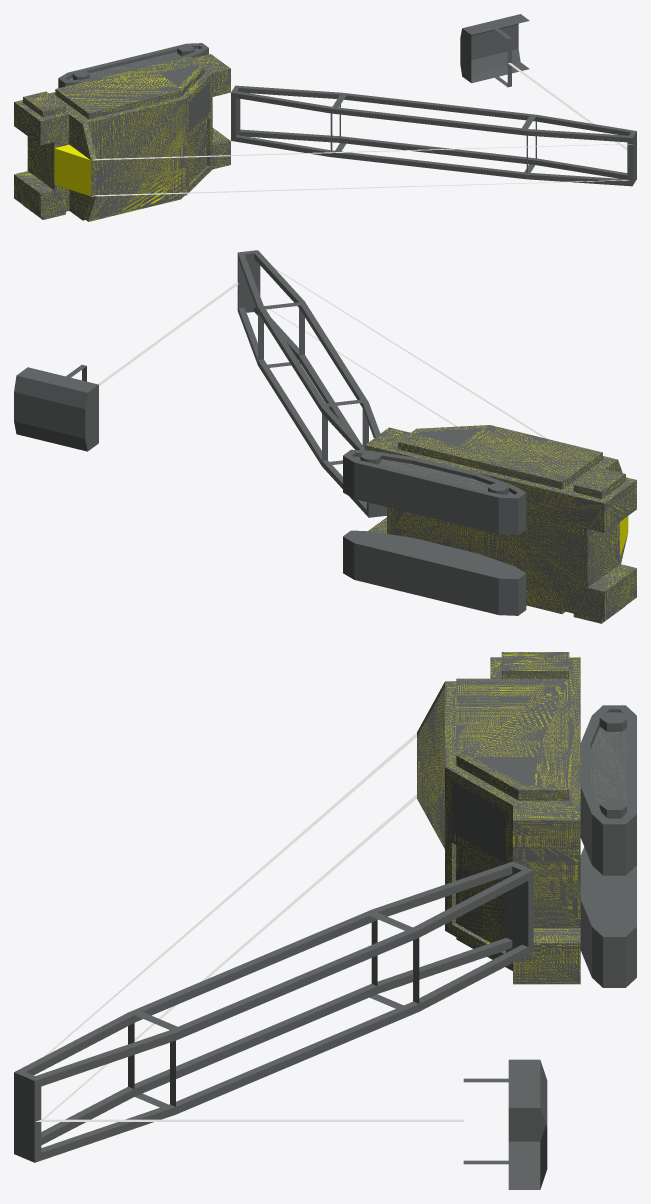
Rendered from dragline.dae.
3 renders of one model, top to bottom at view 1: azimuth 30°, elevation 25°; view 2: azimuth 150°, elevation 25°; view 3: azimuth 270°, elevation 25°, orthographic. The views are drawn at different scales.
Visible parts, largest first — view 1: coords_ME_ID22_MA_material, coords_ME_ID4_MA_material, coords_ME_ID22_MA_material_0, coords_ME_ID36_MA_material, coords_ME_ID100_MA_material_3, coords_ME_ID36_MA_material_0, coords_ME_ID186_MA_material_7, coords_ME_ID194_MA_material, coords_ME_ID82_MA_material, coords_ME_ID76_MA_material_2, coords_ME_ID56_MA_material_2, coords_ME_ID88_MA_material (+6 smaller); view 2: coords_ME_ID22_MA_material, coords_ME_ID94_MA_material, coords_ME_ID4_MA_material, coords_ME_ID82_MA_material, coords_ME_ID36_MA_material, coords_ME_ID100_MA_material_3, coords_ME_ID22_MA_material_0, coords_ME_ID94_MA_material_1, coords_ME_ID36_MA_material_0, coords_ME_ID82_MA_material_1, coords_ME_ID88_MA_material, coords_ME_ID162_MA_material (+4 smaller); view 3: coords_ME_ID4_MA_material, coords_ME_ID22_MA_material, coords_ME_ID36_MA_material, coords_ME_ID22_MA_material_0, coords_ME_ID94_MA_material, coords_ME_ID100_MA_material_3, coords_ME_ID82_MA_material, coords_ME_ID36_MA_material_0, coords_ME_ID194_MA_material, coords_ME_ID42_MA_material, coords_ME_ID162_MA_material, coords_ME_ID94_MA_material_1 (+10 smaller).
Part boxes in pixels (<box>): coords_ME_ID22_MA_material: <box>14,54,230,220</box>; coords_ME_ID4_MA_material: <box>231,85,636,186</box>; coords_ME_ID22_MA_material_0: <box>14,54,230,219</box>; coords_ME_ID36_MA_material: <box>55,56,204,119</box>; coords_ME_ID100_MA_material_3: <box>460,14,529,87</box>; coords_ME_ID36_MA_material_0: <box>55,57,204,116</box>; coords_ME_ID186_MA_material_7: <box>54,144,90,196</box>; coords_ME_ID194_MA_material: <box>189,118,209,186</box>; coords_ME_ID82_MA_material: <box>58,43,208,88</box>; coords_ME_ID76_MA_material_2: <box>91,180,629,196</box>; coords_ME_ID56_MA_material_2: <box>92,144,632,160</box>; coords_ME_ID88_MA_material: <box>23,91,65,117</box>; coords_ME_ID22_MA_material: <box>364,427,636,620</box>; coords_ME_ID94_MA_material: <box>343,530,526,615</box>; coords_ME_ID4_MA_material: <box>237,250,386,517</box>; coords_ME_ID82_MA_material: <box>343,449,526,534</box>; coords_ME_ID36_MA_material: <box>398,425,602,489</box>; coords_ME_ID100_MA_material_3: <box>14,364,98,451</box>; coords_ME_ID22_MA_material_0: <box>366,429,636,619</box>; coords_ME_ID94_MA_material_1: <box>343,530,526,615</box>; coords_ME_ID36_MA_material_0: <box>398,425,602,488</box>; coords_ME_ID82_MA_material_1: <box>343,450,526,534</box>; coords_ME_ID88_MA_material: <box>573,467,625,498</box>; coords_ME_ID162_MA_material: <box>378,459,490,491</box>; coords_ME_ID4_MA_material: <box>14,861,533,1162</box>; coords_ME_ID22_MA_material: <box>417,657,580,984</box>; coords_ME_ID36_MA_material: <box>456,678,569,800</box>; coords_ME_ID22_MA_material_0: <box>417,657,580,984</box>; coords_ME_ID94_MA_material: <box>580,847,636,987</box>; coords_ME_ID100_MA_material_3: <box>463,1059,547,1189</box>; coords_ME_ID82_MA_material: <box>580,705,636,875</box>; coords_ME_ID36_MA_material_0: <box>456,679,569,800</box>; coords_ME_ID194_MA_material: <box>452,843,505,953</box>; coords_ME_ID42_MA_material: <box>452,781,505,862</box>; coords_ME_ID162_MA_material: <box>590,727,626,806</box>; coords_ME_ID94_MA_material_1: <box>580,847,636,987</box>.
Bounding box in the file's own units: 172 × 36 × 110.
